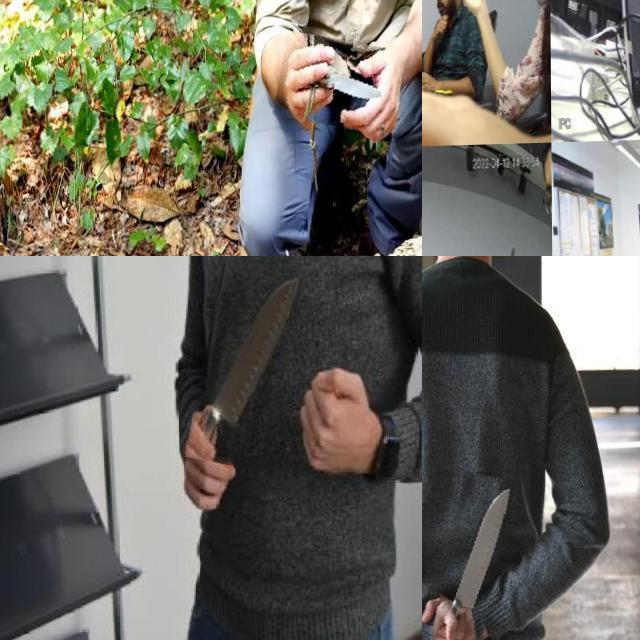-: (192, 260, 296, 472), (432, 473, 505, 640), (274, 36, 394, 134), (443, 0, 466, 25), (503, 243, 517, 256)
